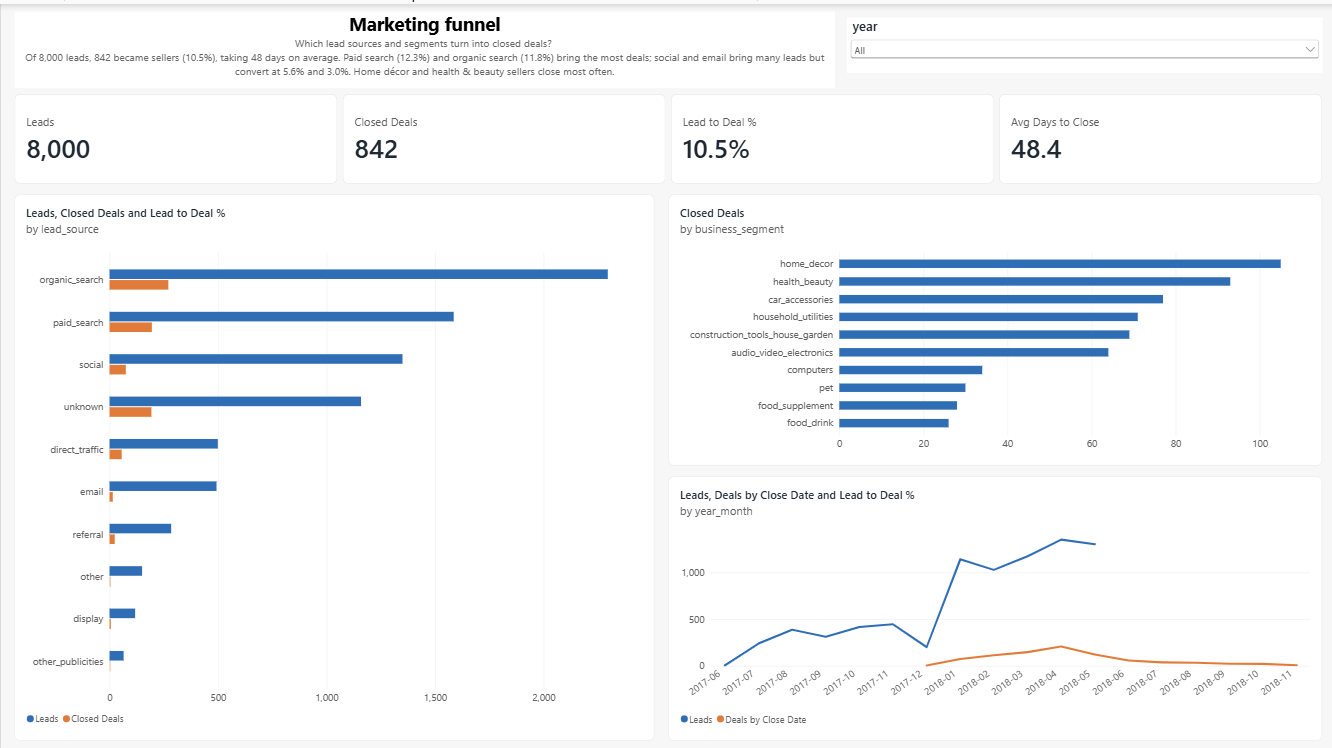

Layout of this report page (visuals, bound fields, positions):
{"tool":"powerbi","page":{"name":"Marketing Funnel","canvas":[1920,1080],"ordinal":2},"visuals":[{"type":"cardVisual","fields":{"Data":["_Measures.Leads","_Measures.Closed Deals","_Measures.Lead to Deal %","_Measures.Avg Days to Close"]},"box":[20,130,1880,129.4],"z":0},{"type":"clusteredBarChart","fields":{"Category":["fct_marketing_funnel.lead_source"],"Y":["_Measures.Leads","_Measures.Closed Deals"]},"box":[20,275,920,785],"z":1000},{"type":"clusteredBarChart","fields":{"Category":["fct_marketing_funnel.business_segment"],"Y":["_Measures.Closed Deals"]},"box":[960,275,940,390],"z":2000},{"type":"lineChart","fields":{"Category":["dim_date.year_month"],"Y":["_Measures.Leads","_Measures.Deals by Close Date"]},"box":[960,680,940,380],"z":3000},{"type":"slicer","fields":{"Values":["dim_date.year"]},"box":[1216.6,19.4,683.8,79.8],"z":4000},{"type":"textbox","box":[20,10,1180,110],"z":5000}]}

Visuals, with their boxes in screenshot pixels (x1, y1, x2, y2), scaled from the page's 1920x1080 canvas onto the 1332x748 screenshot:
cardVisual - _Measures.Leads x _Measures.Closed Deals: left=14, top=90, right=1318, bottom=180
clusteredBarChart - fct_marketing_funnel.lead_source x _Measures.Leads: left=14, top=190, right=652, bottom=734
clusteredBarChart - fct_marketing_funnel.business_segment x _Measures.Closed Deals: left=666, top=190, right=1318, bottom=461
lineChart - dim_date.year_month x _Measures.Leads: left=666, top=471, right=1318, bottom=734
slicer - dim_date.year: left=844, top=13, right=1318, bottom=69
textbox: left=14, top=7, right=832, bottom=83
